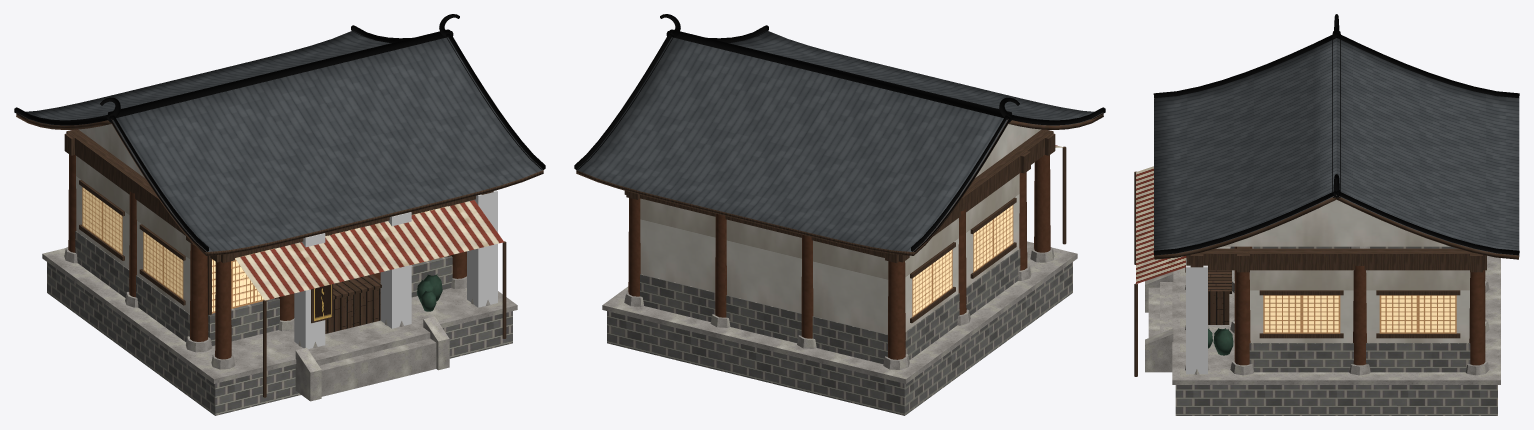
Rendered from shophouse_a.glb.
The picture shows the model from 3 angles, left to right: view 1: azimuth 30°, elevation 25°; view 2: azimuth 150°, elevation 25°; view 3: azimuth 270°, elevation 25°; orthographic projection. The views are drawn at different scales.
Visible parts, largest first — view 1: Shop1Roof, Awning, Shop1PodiumBase, Shop1PodiumCap, Shop1Dado, Shop1RoofRidge, Shop1Columns, Shop1Stairsfront, Shop1Lattice, Shop1Walls, Shop1Beams, Counter (+10 smaller); view 2: Shop1Roof, Shop1Walls, Shop1PodiumBase, Shop1Dado, Shop1Columns, Shop1PodiumCap, Shop1RoofRidge, Shop1Beams, Shop1Lattice, Shop1ColumnBases, Shop1Frames, Shop1Gables (+1 smaller); view 3: Shop1Roof, Shop1PodiumBase, Shop1PodiumCap, Shop1Walls, Shop1Dado, Shop1Beams, Shop1Lattice, Shop1Gables, Shop1RoofRidge, Shop1Columns, Awning, Shop1VCol-convcolonly.003 (+7 smaller).
Part boxes in pixels (<box>): Shop1Roof: <box>16,30,543,255</box>; Awning: <box>235,200,503,300</box>; Shop1PodiumBase: <box>47,262,512,415</box>; Shop1PodiumCap: <box>42,248,517,383</box>; Shop1Dado: <box>75,231,452,345</box>; Shop1RoofRidge: <box>14,14,545,252</box>; Shop1Columns: <box>68,154,466,359</box>; Shop1Stairsfront: <box>312,328,436,396</box>; Shop1Lattice: <box>82,187,447,313</box>; Shop1Walls: <box>76,156,190,313</box>; Shop1Beams: <box>64,129,493,263</box>; Counter: <box>325,274,381,333</box>; Shop1Roof: <box>576,30,1103,255</box>; Shop1Walls: <box>640,173,1019,334</box>; Shop1PodiumBase: <box>607,262,1072,415</box>; Shop1Dado: <box>640,248,1020,364</box>; Shop1Columns: <box>628,155,1050,359</box>; Shop1PodiumCap: <box>602,241,1077,383</box>; Shop1RoofRidge: <box>574,14,1105,252</box>; Shop1Beams: <box>624,129,1055,263</box>; Shop1Lattice: <box>912,205,1013,317</box>; Shop1ColumnBases: <box>624,246,1054,369</box>; Shop1Frames: <box>910,197,1016,323</box>; Shop1Gables: <box>975,124,1041,177</box>; Shop1Roof: <box>1154,38,1519,259</box>; Shop1PodiumBase: <box>1175,385,1497,415</box>; Shop1PodiumCap: <box>1172,246,1500,384</box>; Shop1Walls: <box>1249,270,1470,342</box>; Shop1Dado: <box>1249,246,1470,372</box>; Shop1Beams: <box>1186,246,1486,272</box>; Shop1Lattice: <box>1263,295,1456,333</box>; Shop1Gables: <box>1223,199,1450,246</box>; Shop1RoofRidge: <box>1153,14,1519,255</box>; Shop1Columns: <box>1234,246,1485,365</box>; Awning: <box>1136,166,1186,283</box>; Shop1VCol-convcolonly.003: <box>1186,258,1207,374</box>.
Size of what is drawn, in the model's own units: 11.11 by 7.73 by 10.76.
13 materials, 13 textured.
